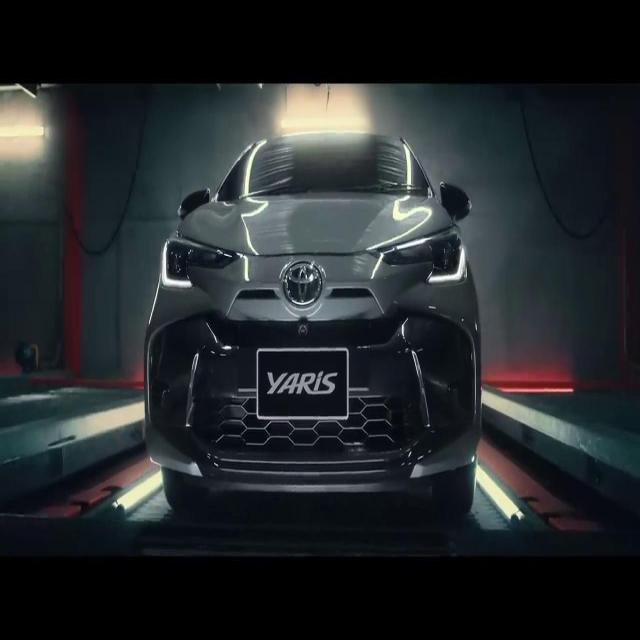Hatchback: (144, 132, 480, 514)
